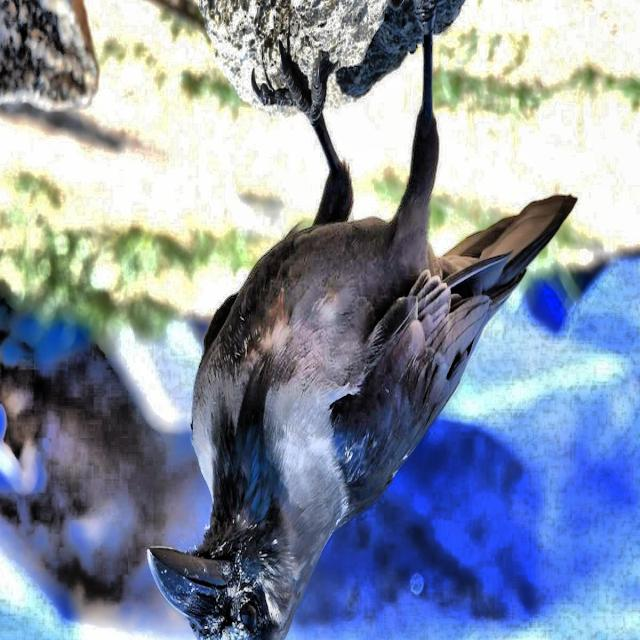crow: (139, 3, 585, 640)
